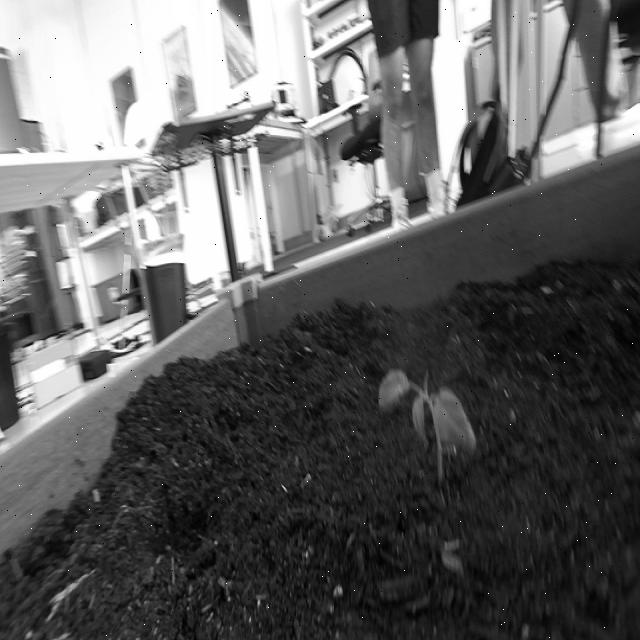Healthy: (376, 356, 482, 498)
